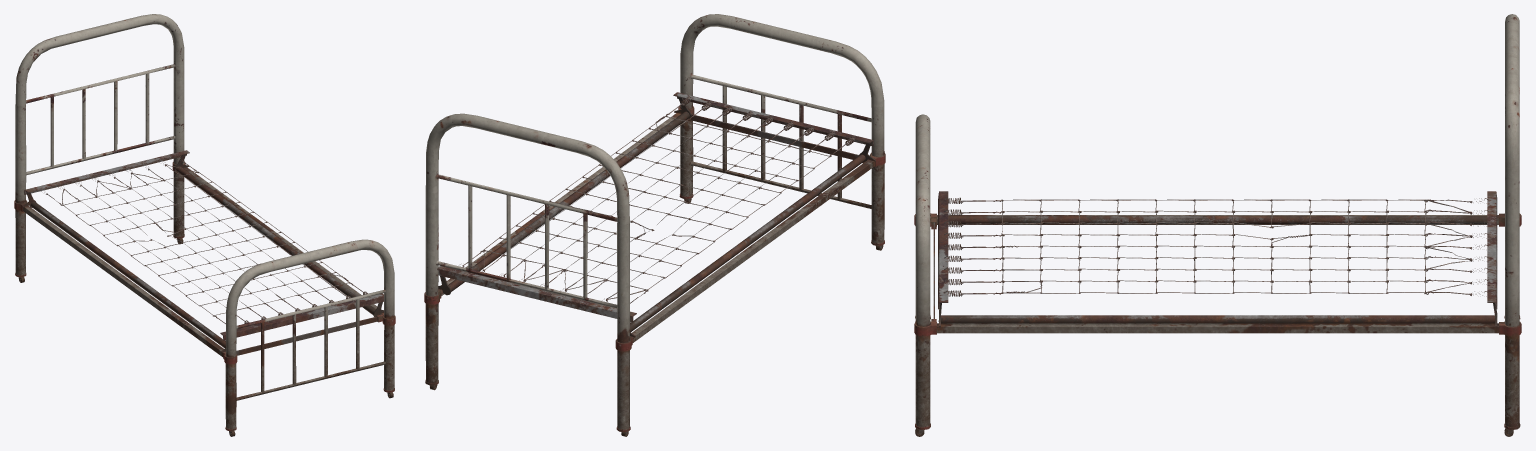
The model's file is old_bed_frame.glb.
3 views of the same model, side by side, from view 1: azimuth 30°, elevation 25°; view 2: azimuth 150°, elevation 25°; view 3: azimuth 270°, elevation 25° (orthographic). The views are drawn at different scales.
Visible parts, largest first — view 1: old_bed_frame; view 2: old_bed_frame; view 3: old_bed_frame.
Part boxes in pixels (left/top/right/bottom): old_bed_frame: left=14, top=14, right=395, bottom=436; old_bed_frame: left=424, top=14, right=885, bottom=436; old_bed_frame: left=914, top=14, right=1521, bottom=436.
Bounding box in the file's own units: 0.9047 × 1.2 × 2.
Materials: 1 (1 with a texture image).
